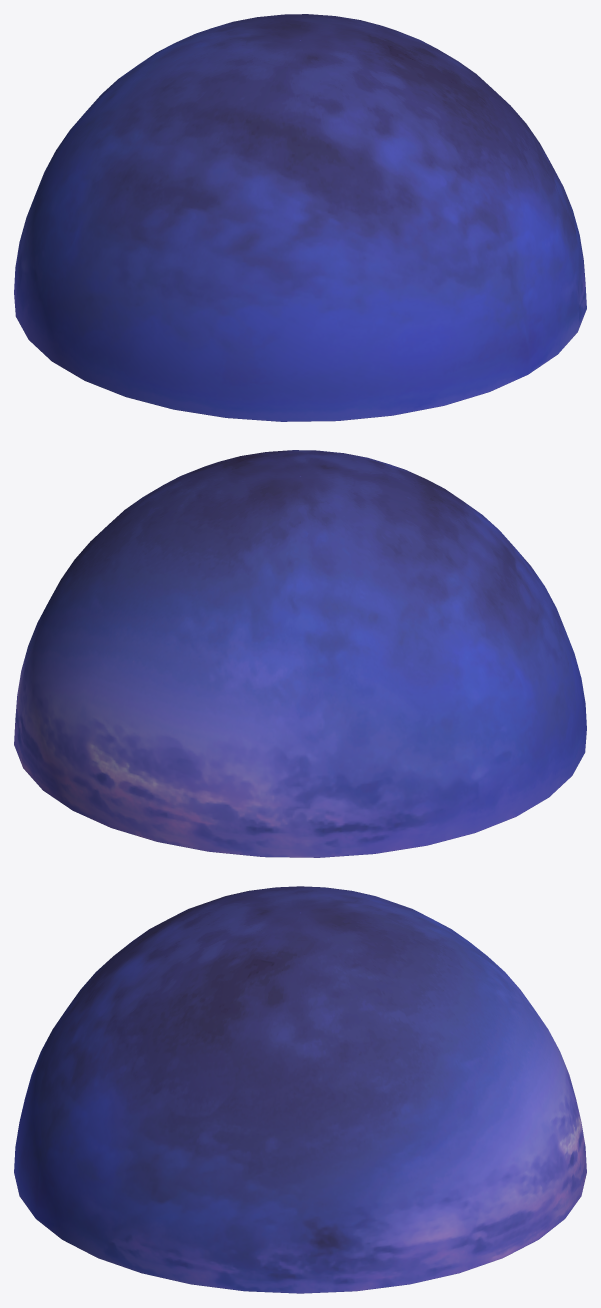
Rendered from skyDome.dae.
3 renders of one model, top to bottom at view 1: azimuth 30°, elevation 25°; view 2: azimuth 150°, elevation 25°; view 3: azimuth 270°, elevation 25°, orthographic.
Parts seen in each view (by area): view 1: pSphere1; view 2: pSphere1; view 3: pSphere1.
Part boxes in pixels (<box>): pSphere1: <box>14,14,586,421</box>; pSphere1: <box>14,450,586,857</box>; pSphere1: <box>14,886,586,1293</box>.
Bounding box in the file's own units: 10000 × 5000 × 10000.
